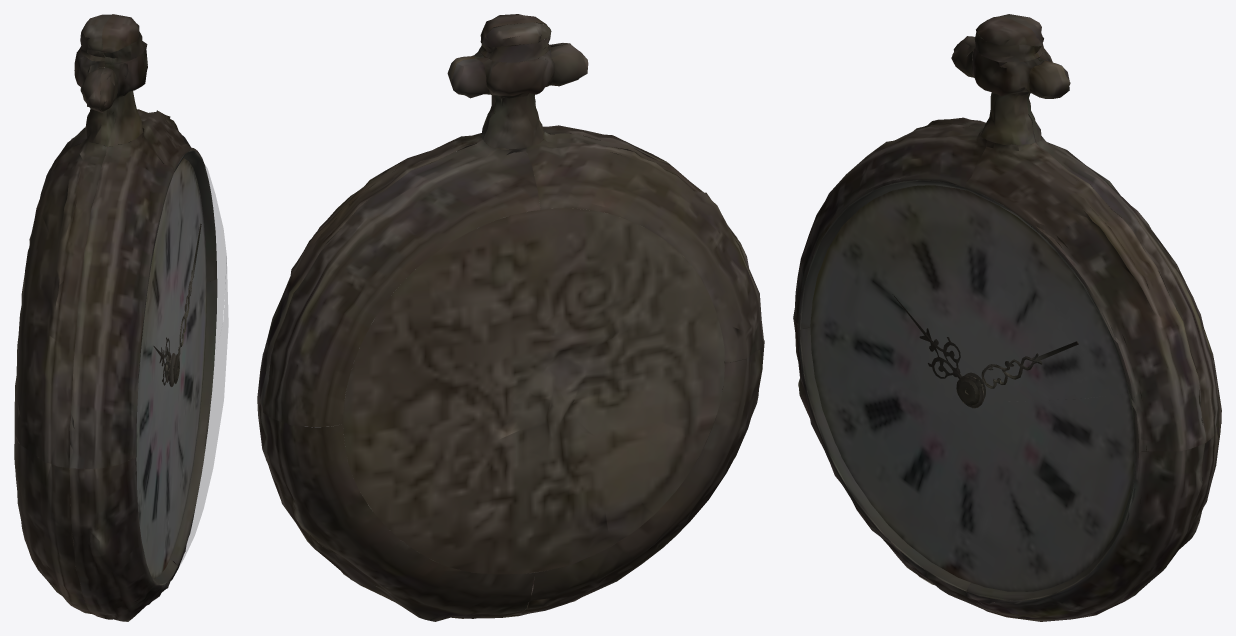
File: obj_old_pocket_watch.glb
3 renders of one model, left to right at view 1: azimuth 30°, elevation 25°; view 2: azimuth 150°, elevation 25°; view 3: azimuth 270°, elevation 25°, orthographic. The views are drawn at different scales.
Visible parts, largest first — view 1: Object_2; view 2: Object_2; view 3: Object_2.
Part boxes in pixels (x1,y1,x2,y2): Object_2: (14,14,228,621); Object_2: (257,14,764,621); Object_2: (793,14,1221,621).
Bounding box in the file's own units: 0.0357 × 0.06 × 0.04.
2 materials, 1 textured.
